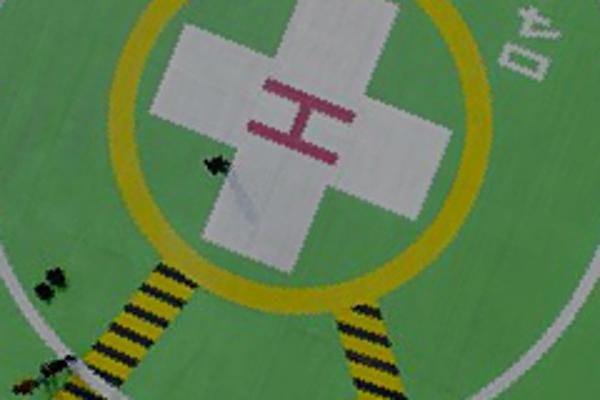Apron: (103, 1, 506, 324)
